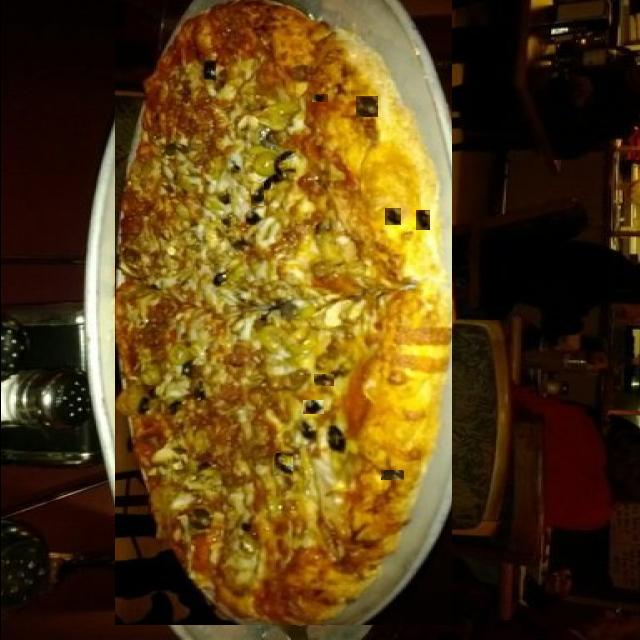olive: (269, 432, 310, 457), (220, 172, 240, 200), (355, 96, 377, 117), (346, 546, 367, 567), (273, 453, 292, 476), (359, 223, 376, 244), (368, 250, 388, 266), (335, 338, 355, 354), (250, 183, 263, 206), (302, 400, 323, 414), (415, 210, 429, 230), (384, 208, 400, 225), (313, 374, 333, 386), (380, 470, 403, 480), (331, 422, 351, 432), (322, 452, 338, 462), (311, 94, 327, 102)
pizza: (114, 0, 451, 625)
